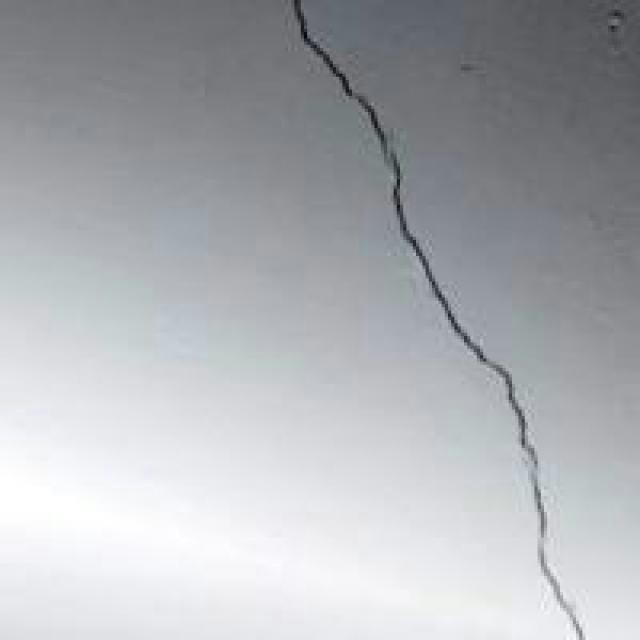crack: (272, 0, 598, 640)
